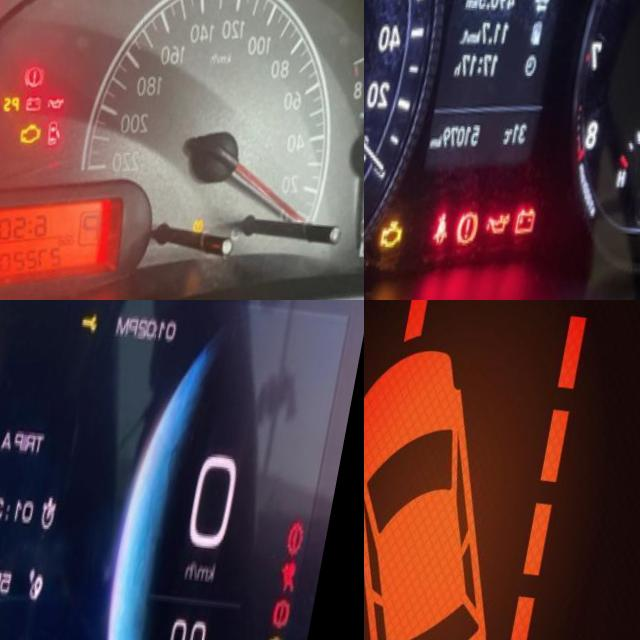Seat Belt: (446, 196, 475, 245)
